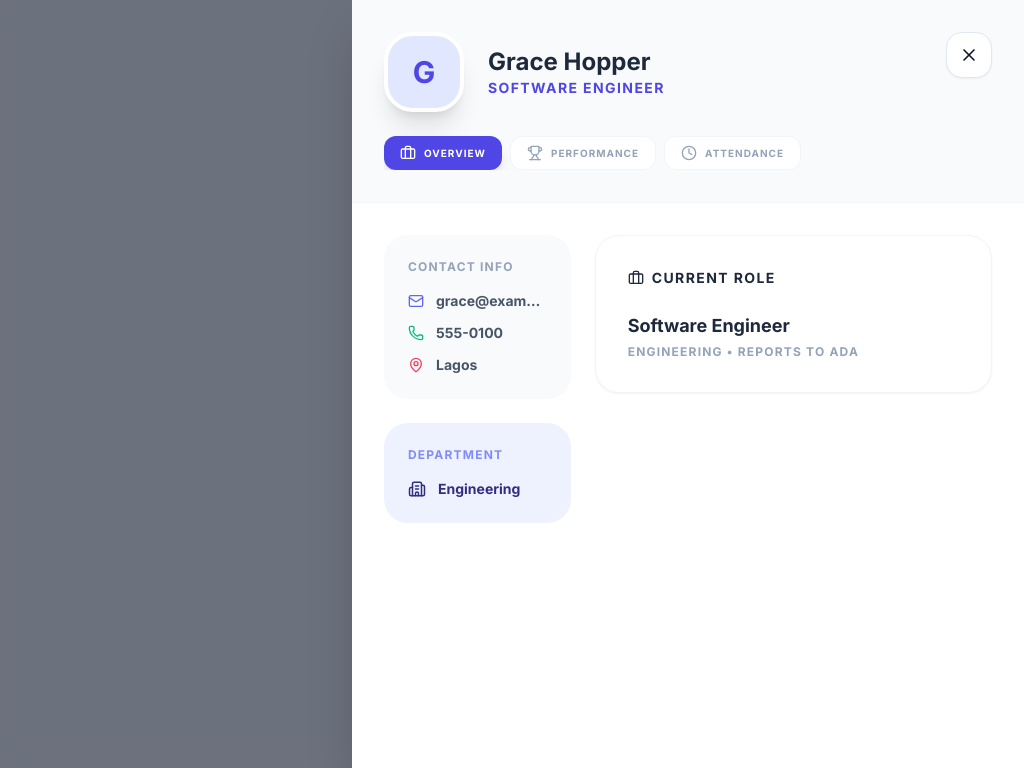
Test: EmployeeDetailModal › shows the empty-goals message on the Performance tab
Click the button "Performance".
click(583, 153)  # box [510,136,656,170]
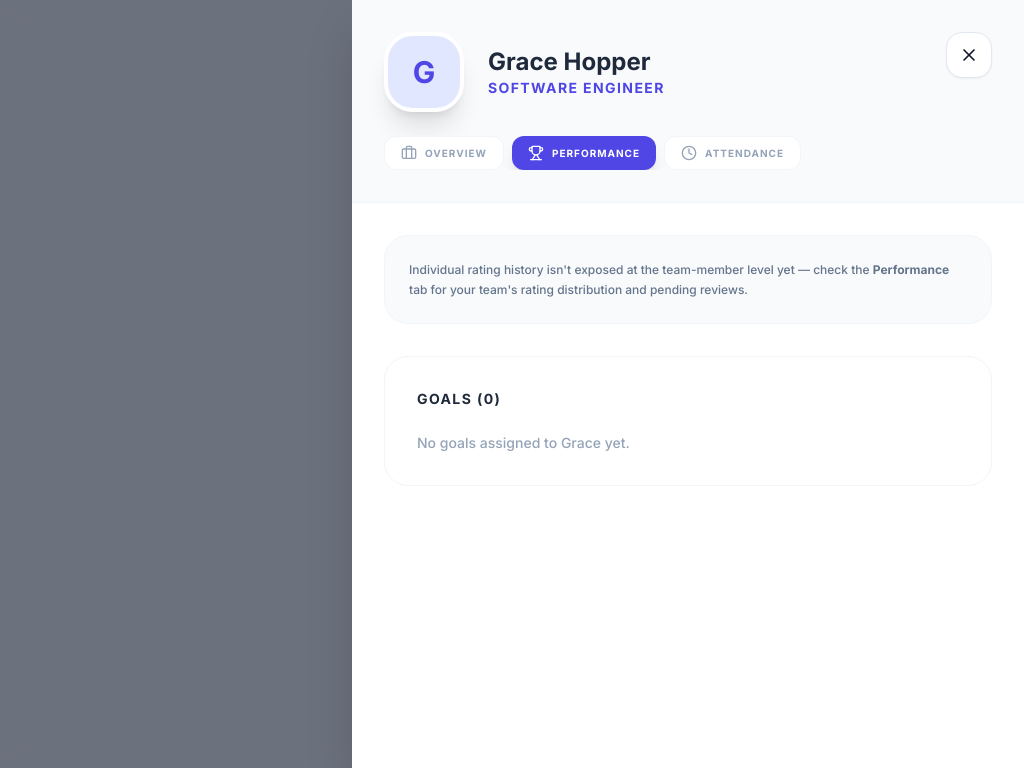
Expected: the text "No goals assigned to Grace yet." is shown, [417,434,630,451]
